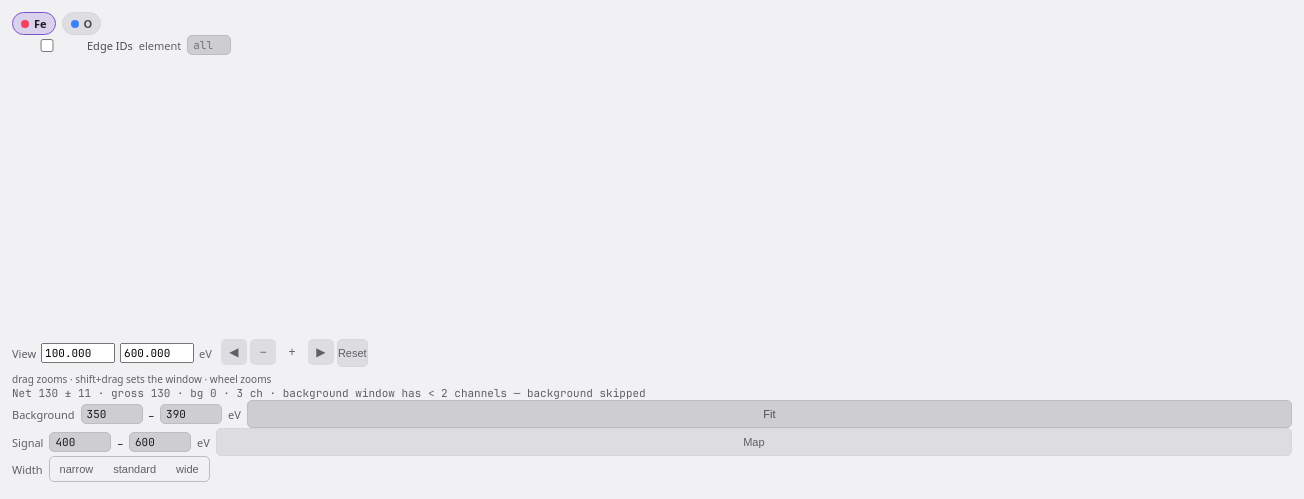
Test: EelsExploreTab store-backed windows › switching species (SpeciesChips, mirroring a Maps row click) swaps the edited windows
The width and height of the screenshot is (1304, 499).
Expected: the 3rd field showing "400" is shown, [50,432,112,452]
Click the option "O": (81, 24) [62,12,101,35]
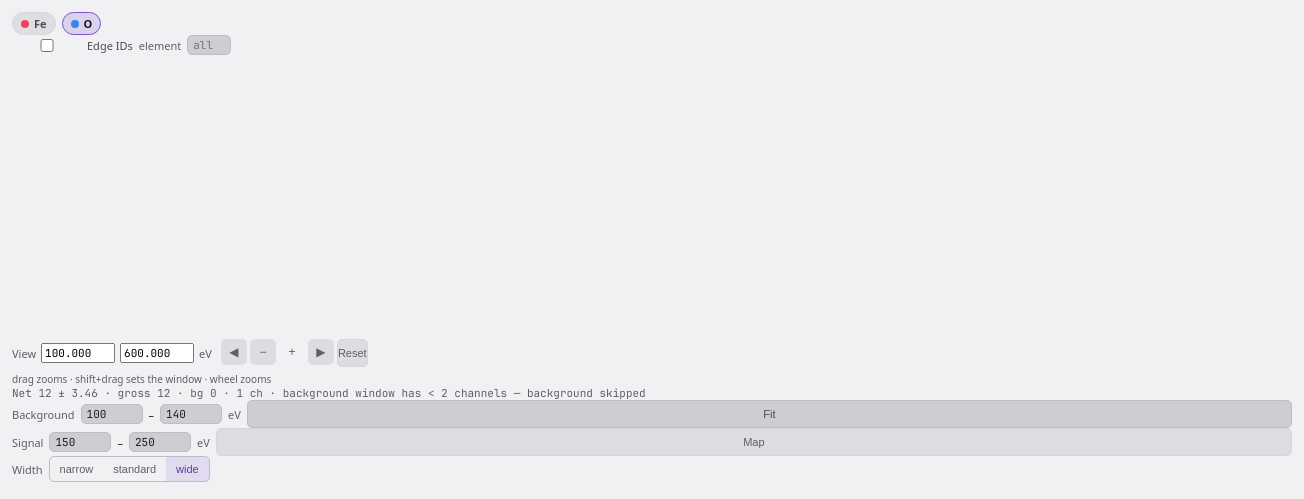
Expected: the 3rd field showing "150" is shown, [50,432,112,452]
Expected: the 4th field showing "250" is shown, [129,432,191,452]
Expected: the 1st field showing "100" is shown, [81,404,143,424]
